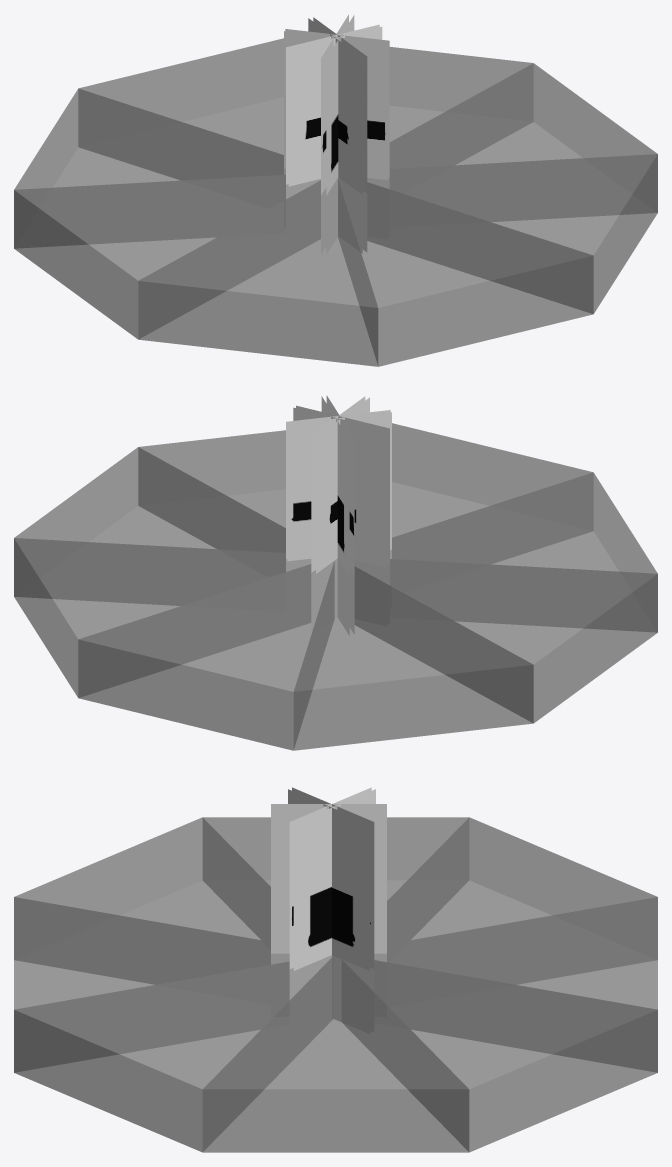
The model's file is stand avatar giratorios.fbx.
The picture shows the model from 3 angles, top to bottom: view 1: azimuth 30°, elevation 25°; view 2: azimuth 150°, elevation 25°; view 3: azimuth 270°, elevation 25°; orthographic projection. The views are drawn at different scales.
Parts seen in each view (by area): view 1: Group2, Group5, Group4, Group1, Group3, Group6, Group8, Group7, Group14, Group11, Group21, Group18 (+4 smaller); view 2: Group2, Group7, Group8, Group1, Group3, Group6, Group4, Group5, Group15, Group17, Group11, Group20 (+4 smaller); view 3: Group5, Group7, Group6, Group8, Group4, Group1, Group3, Group2, Group18, Group20, Group12, Group21 (+1 smaller).
Boxes of the visible parts, left/top/right/bottom form: Group2: left=14, top=174, right=320, bottom=339; Group5: left=367, top=154, right=657, bottom=313; Group4: left=338, top=177, right=593, bottom=366; Group1: left=14, top=88, right=285, bottom=248; Group3: left=138, top=178, right=378, bottom=366; Group6: left=389, top=63, right=657, bottom=221; Group8: left=78, top=38, right=283, bottom=179; Group7: left=389, top=47, right=533, bottom=168; Group14: left=288, top=26, right=382, bottom=197; Group11: left=308, top=18, right=362, bottom=253; Group21: left=284, top=31, right=388, bottom=188; Group18: left=326, top=15, right=354, bottom=253; Group2: left=354, top=559, right=657, bottom=723; Group7: left=14, top=538, right=311, bottom=697; Group8: left=78, top=561, right=334, bottom=750; Group1: left=293, top=558, right=533, bottom=750; Group3: left=390, top=472, right=657, bottom=632; Group6: left=14, top=447, right=285, bottom=605; Group4: left=392, top=423, right=593, bottom=563; Group5: left=138, top=430, right=285, bottom=552; Group15: left=293, top=407, right=386, bottom=583; Group17: left=287, top=412, right=391, bottom=571; Group11: left=316, top=397, right=369, bottom=619; Group20: left=321, top=396, right=349, bottom=635; Group5: left=14, top=955, right=333, bottom=1152; Group7: left=342, top=959, right=657, bottom=1152; Group6: left=202, top=956, right=469, bottom=1152; Group8: left=374, top=897, right=657, bottom=1071; Group4: left=14, top=897, right=289, bottom=1072; Group1: left=387, top=817, right=657, bottom=984; Group3: left=14, top=817, right=270, bottom=984; Group2: left=203, top=817, right=468, bottom=943; Group18: left=288, top=789, right=369, bottom=1021; Group20: left=293, top=789, right=375, bottom=995; Group12: left=271, top=806, right=386, bottom=964; Group21: left=289, top=787, right=371, bottom=999.
Bounding box in the file's own units: 5.54 × 2 × 5.54.
